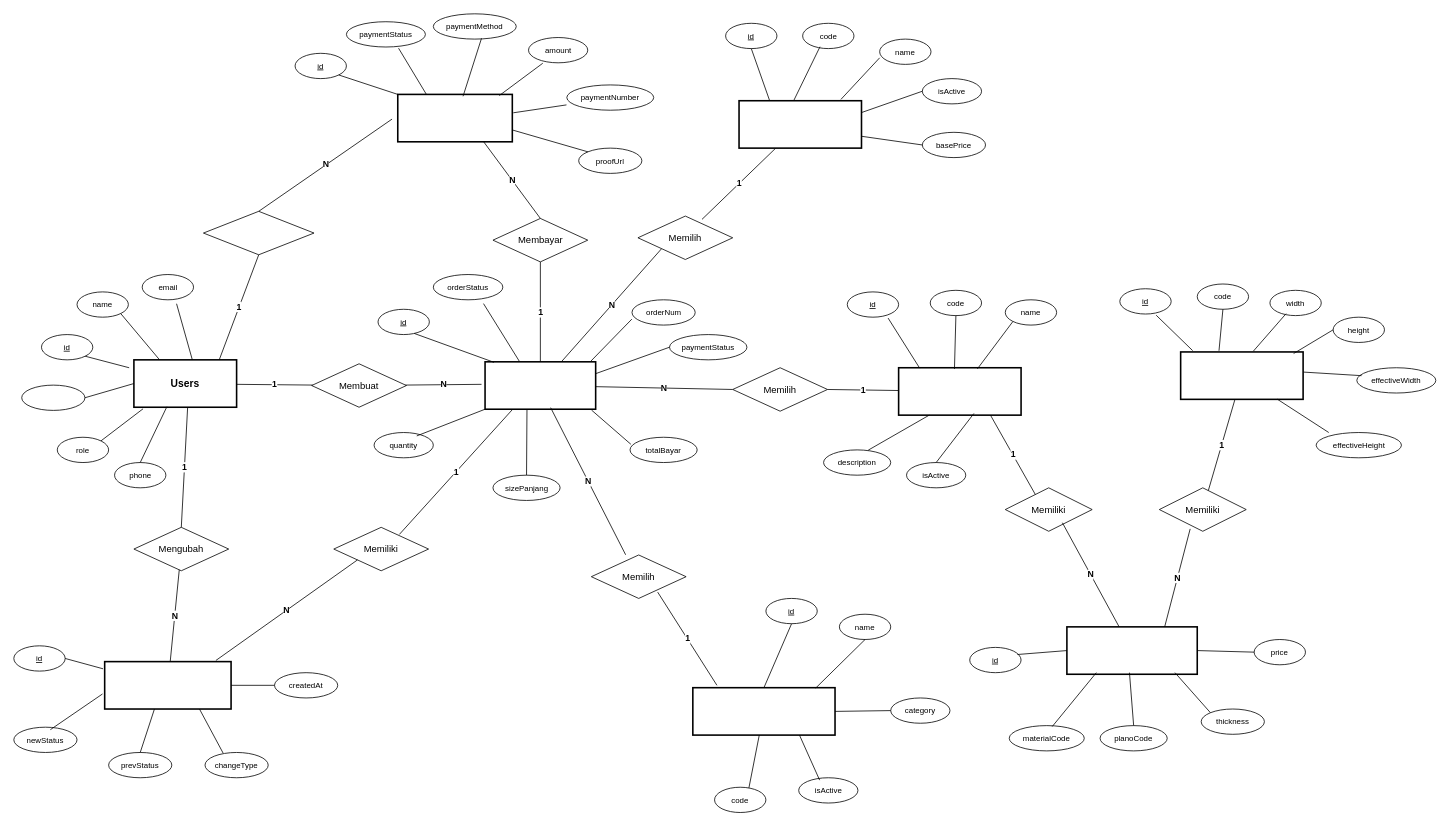
This 1450x826 diagram has some shape labels left out. Here are the shapes that lost their labels. From the top down, the centre of each, then its label:
At [455,117]: "Payments".
At [800,124]: "Box_Models".
At [258,233]: "Memverifikasi".
At [540,385]: "Orders".
At [959,391]: "Materials".
At [1241,375]: "Plano_Types".
At [53,397]: "password".
At [1132,650]: "Material_Prices".
At [167,684]: "Order_History".
At [763,711]: "Finishing_Options".
